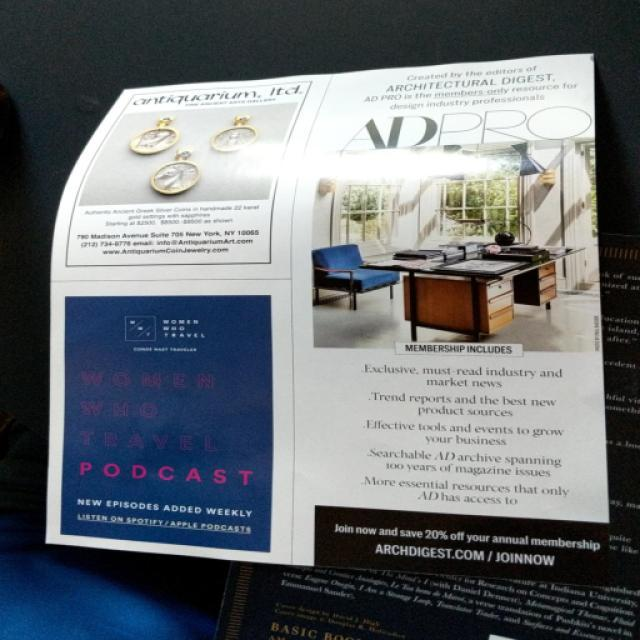document: (49, 55, 609, 582)
